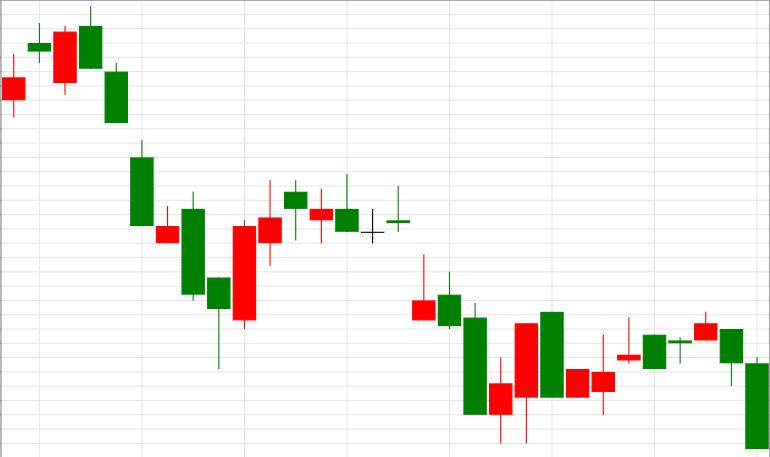hammer_rise: (79, 5, 231, 369)
